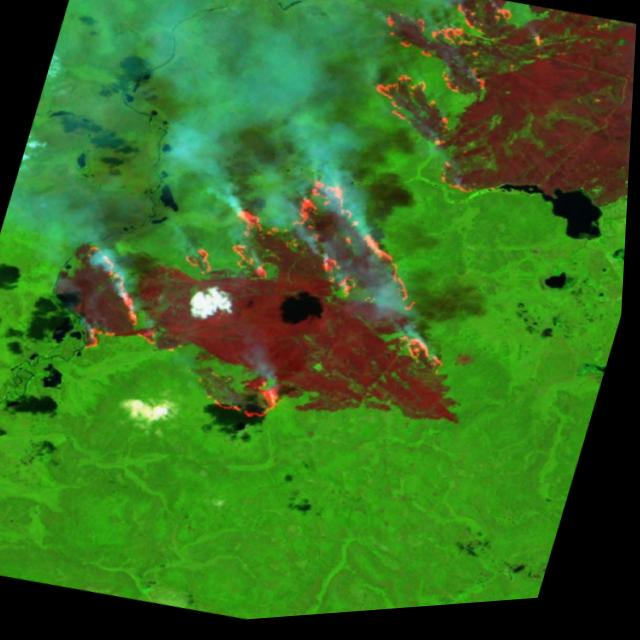fire: (47, 122, 497, 478), (340, 0, 563, 217)
